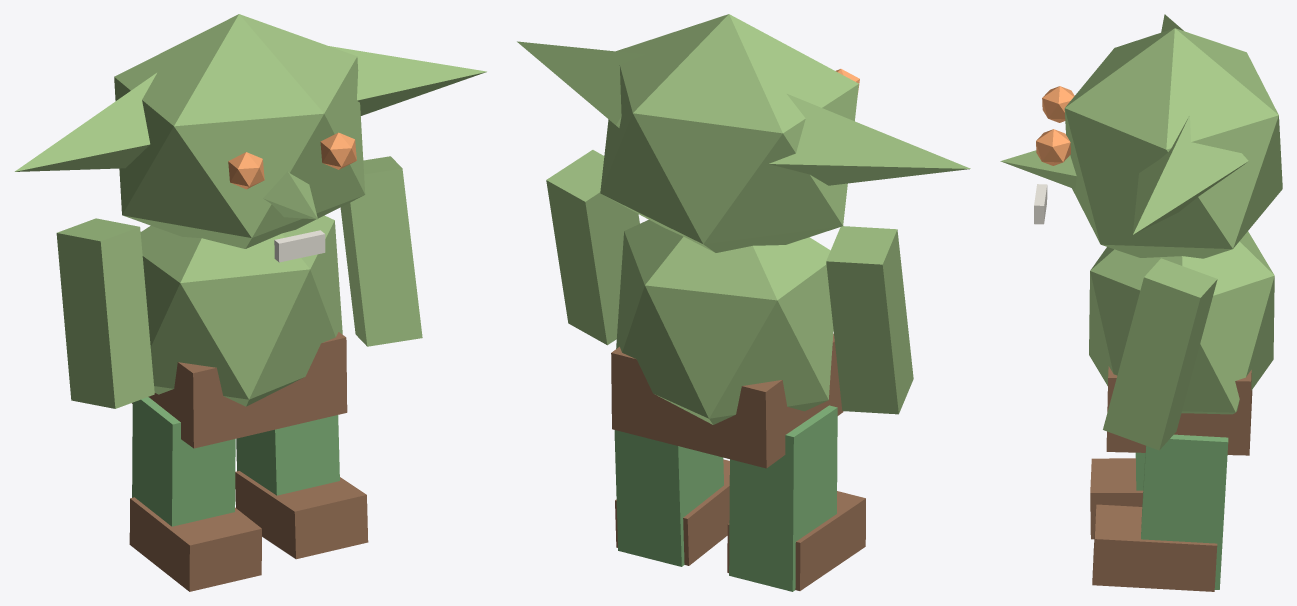
The model's file is npcpose_goblin_idle_08.glb.
3 renders of one model, left to right at view 1: azimuth 30°, elevation 25°; view 2: azimuth 150°, elevation 25°; view 3: azimuth 270°, elevation 25°, orthographic. The views are drawn at different scales.
Visible parts, largest first — view 1: npcpose; view 2: npcpose; view 3: npcpose.
Part boxes in pixels (box(x1,y1,x2,y2)): npcpose: box(14, 14, 486, 591); npcpose: box(517, 14, 970, 591); npcpose: box(1000, 14, 1282, 591).
Bounding box in the file's own units: 1.03 × 1.12 × 0.5532.
